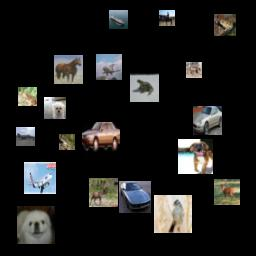airplane: (24, 162, 56, 194), (96, 54, 122, 80), (16, 127, 35, 146)
automobile: (82, 122, 120, 160), (119, 181, 151, 213), (193, 106, 222, 135)
bird: (154, 195, 192, 233)
deer: (89, 178, 118, 207), (214, 179, 240, 205)
dog: (17, 206, 55, 244), (178, 139, 213, 174), (44, 97, 66, 119)
frog: (130, 73, 159, 102), (214, 14, 236, 36), (18, 87, 37, 106), (59, 134, 75, 150)
ship: (109, 10, 128, 29)
